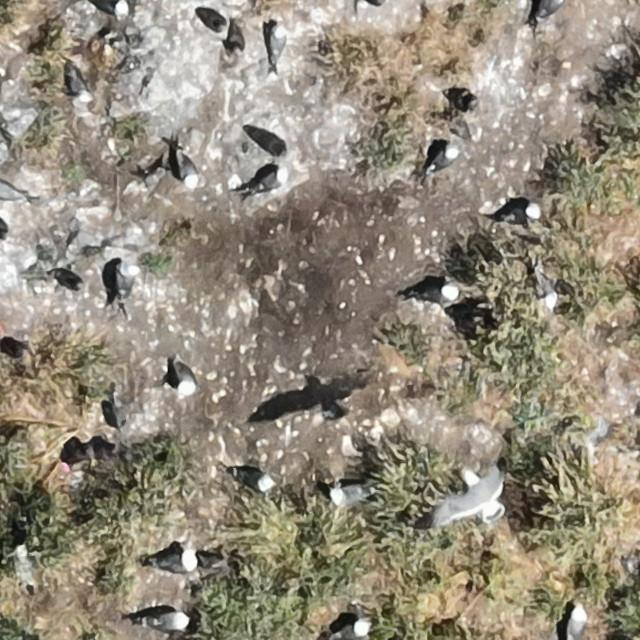F: (436, 463, 504, 523)
umineko: (66, 65, 94, 103), (15, 544, 37, 592), (232, 469, 272, 490), (156, 552, 195, 573), (146, 612, 189, 631), (197, 9, 226, 35), (331, 484, 366, 504), (420, 283, 454, 303), (538, 274, 558, 308), (431, 147, 458, 171), (176, 364, 197, 394), (332, 621, 366, 639), (569, 607, 587, 640), (179, 154, 198, 185), (254, 171, 280, 192), (93, 0, 127, 16), (508, 204, 538, 222), (270, 27, 286, 60), (539, 1, 565, 20), (117, 264, 132, 296)
